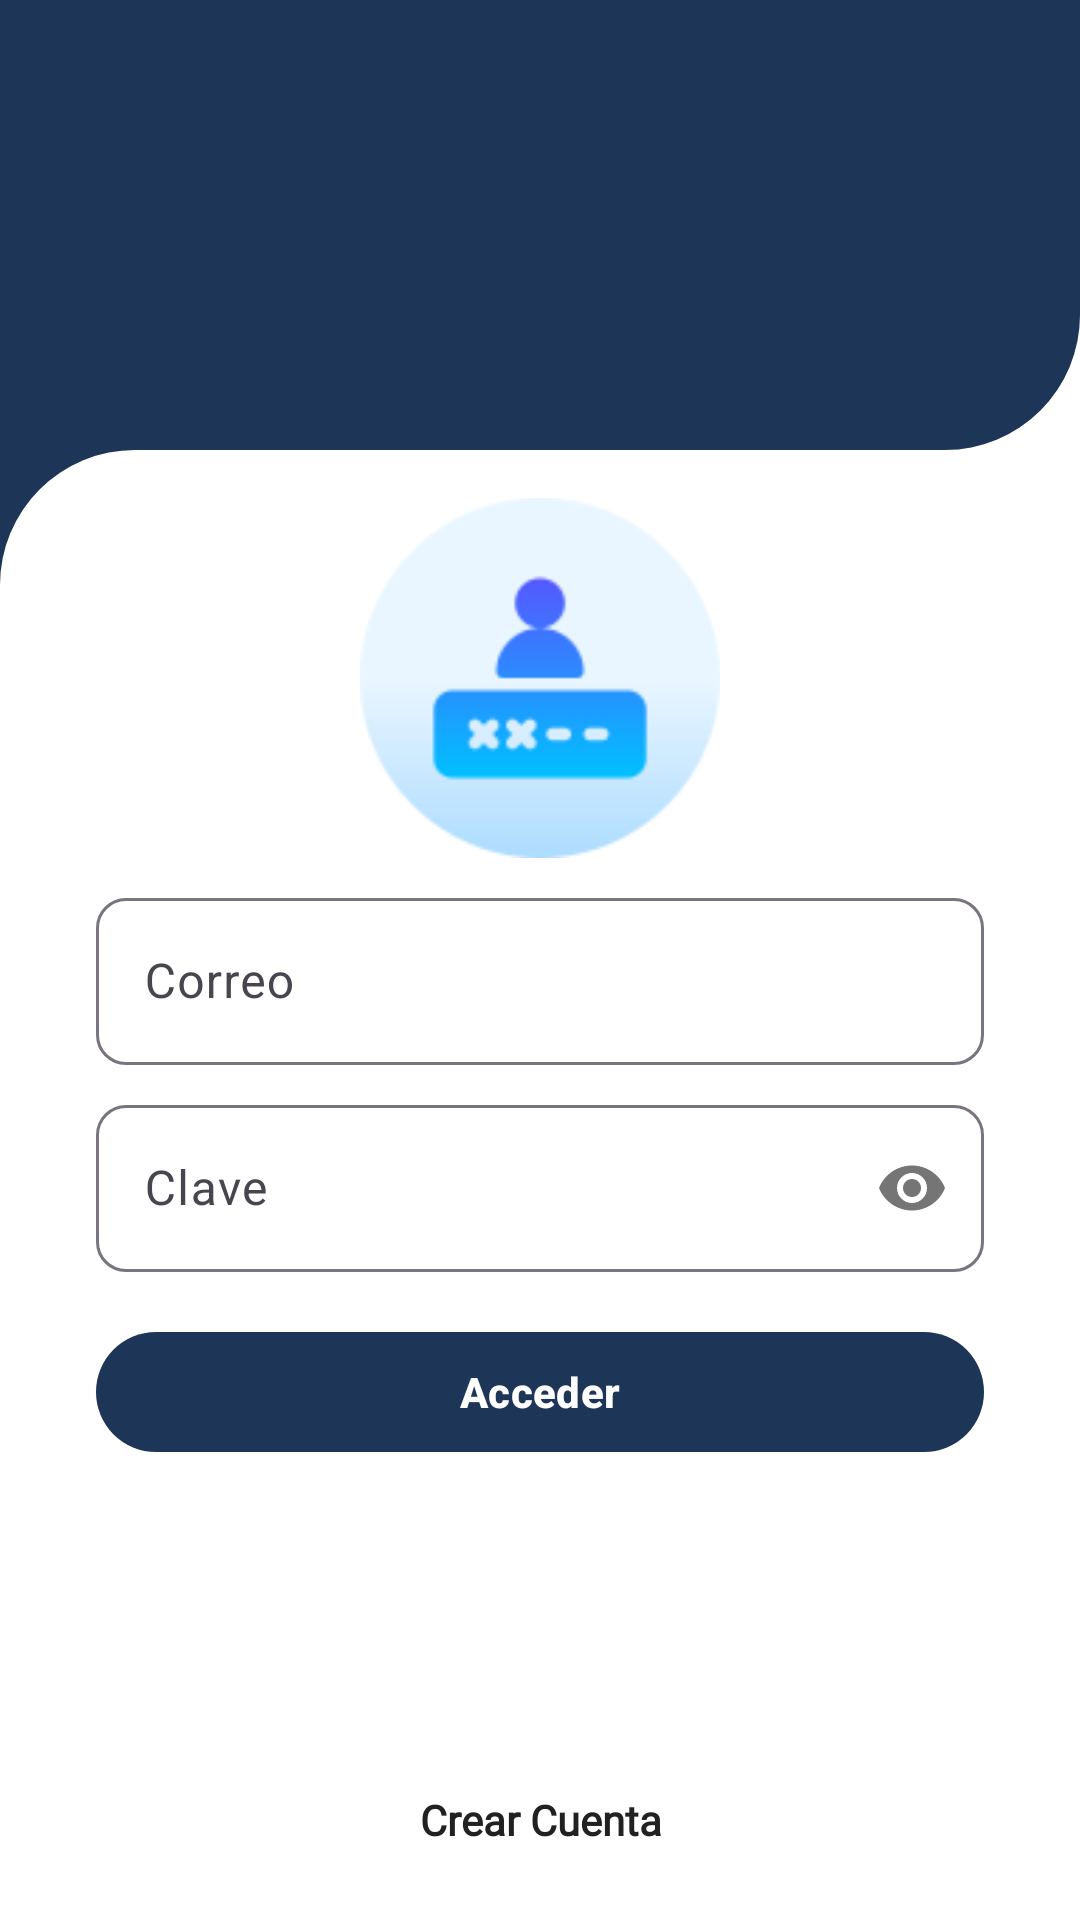

Icons on this 1080 x 1920 Android screen, each with its box as (x1, y1, x2, y2):
usuario login: (363, 575, 717, 858)
